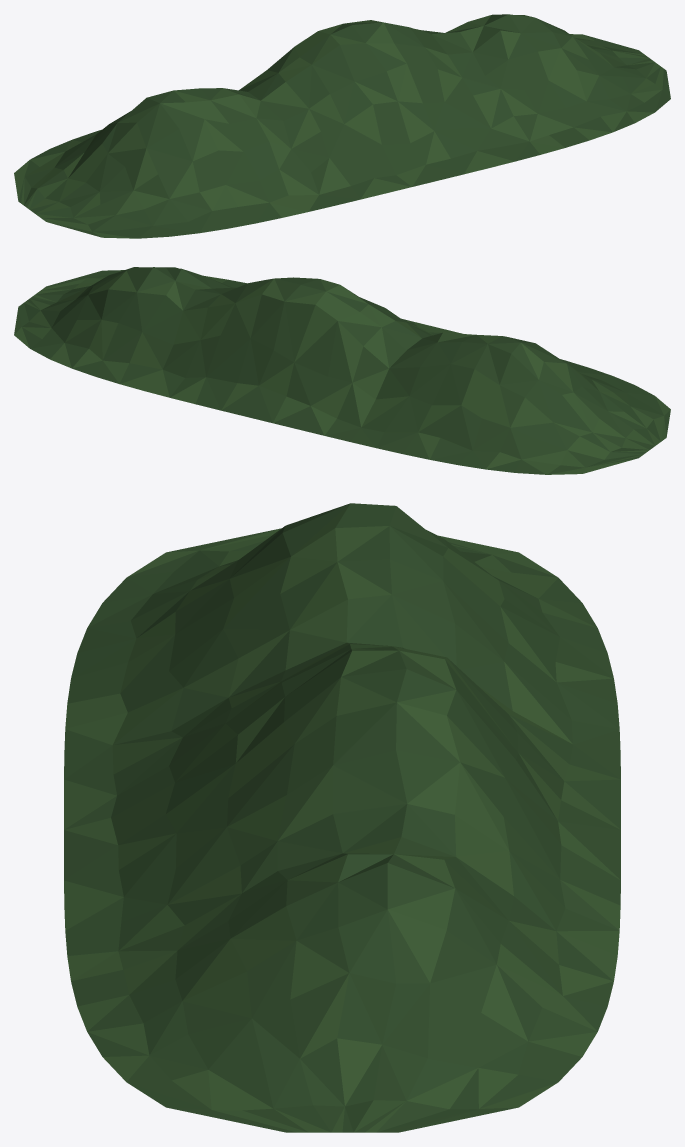
Rendered from World_Hill.fbx.
3 views of the same model, one above another, from view 1: azimuth 30°, elevation 25°; view 2: azimuth 150°, elevation 25°; view 3: azimuth 270°, elevation 25° (orthographic). The views are drawn at different scales.
Parts seen in each view (by area): view 1: Grass, GrassLight; view 2: Grass, GrassLight; view 3: Grass, GrassLight.
Part boxes in pixels (x1,y1,x2,y2): Grass: (18, 14, 670, 238); GrassLight: (14, 15, 663, 238); Grass: (14, 267, 670, 474); GrassLight: (14, 271, 670, 474); Grass: (64, 503, 620, 1132); GrassLight: (64, 503, 620, 1132).
Bounding box in the file's own units: 18000 × 2578 × 7000.
